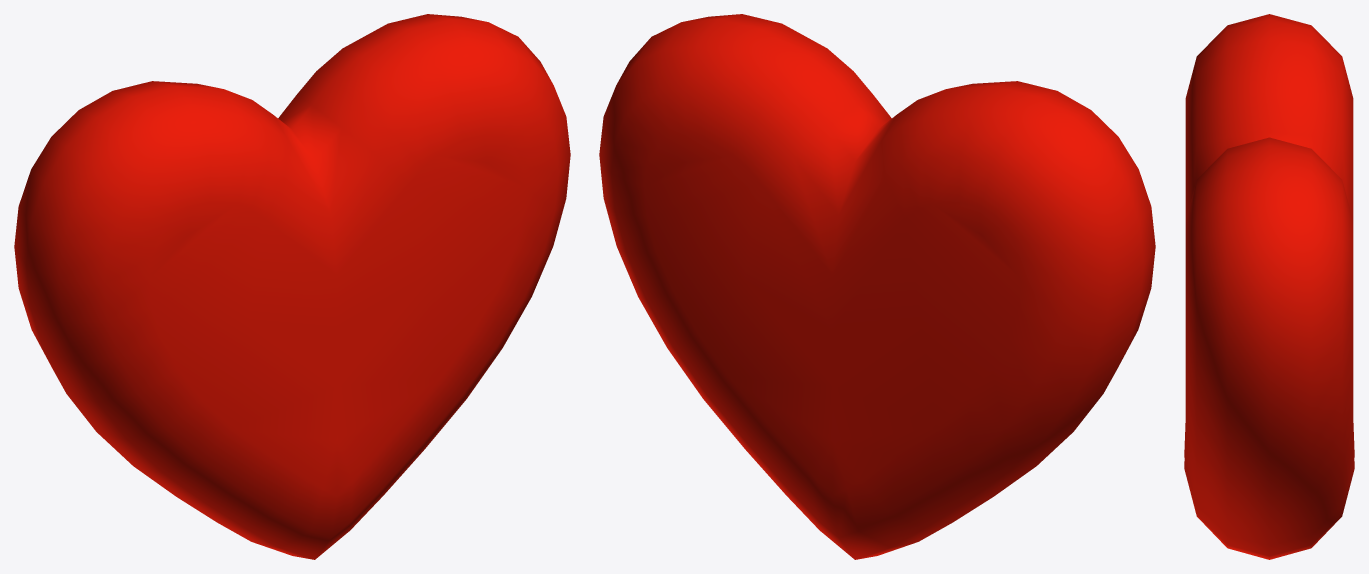
The model's file is heart.fbx.
3 renders of one model, left to right at view 1: azimuth 30°, elevation 25°; view 2: azimuth 150°, elevation 25°; view 3: azimuth 270°, elevation 25°, orthographic. The views are drawn at different scales.
Parts seen in each view (by area): view 1: Heart; view 2: Heart; view 3: Heart.
Part boxes in pixels (left/top/right/bottom): Heart: left=14, top=14, right=570, bottom=559; Heart: left=599, top=14, right=1155, bottom=559; Heart: left=1184, top=14, right=1354, bottom=559.
Size of the model in its own units: 0.2459 by 0.2198 by 0.0726.
